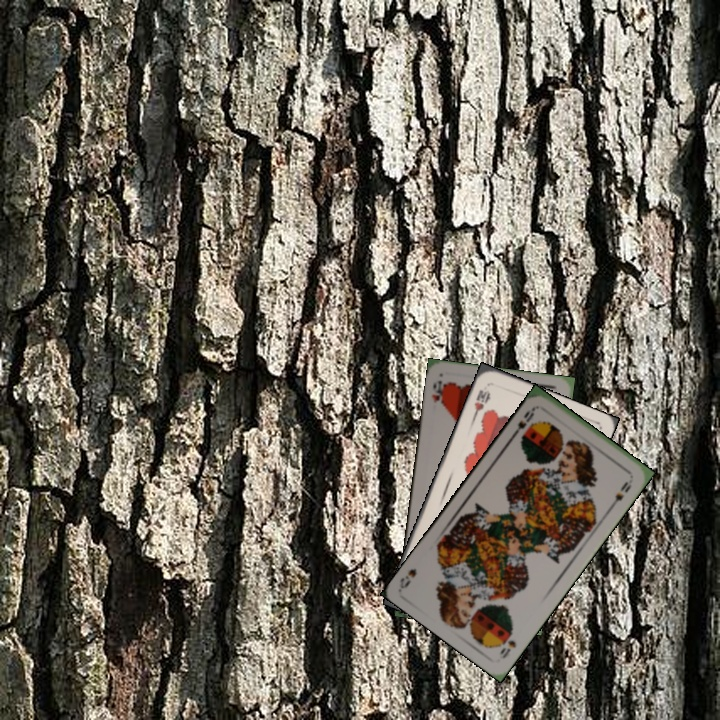H10: (469, 386, 493, 420)
HO: (428, 376, 448, 409)
SO: (509, 403, 538, 438), (496, 636, 519, 661)
